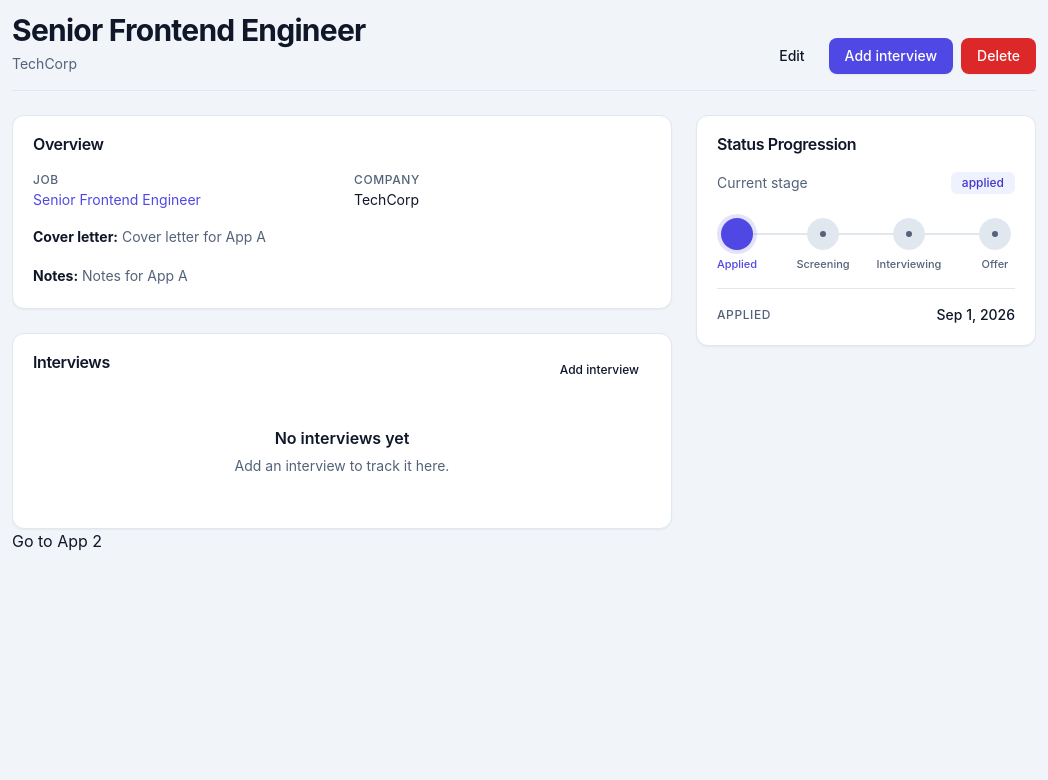
it: ApplicationDetailPage › regression: resets transient editing and modal state when route id changes
Expected: the heading "Senior Frontend Engineer" is shown, x1=12 y1=12 x2=366 y2=48
Note: Enter edit mode for app_1
Step 1. Click the button "Edit" → (792, 56), box x1=763 y1=38 x2=821 y2=74
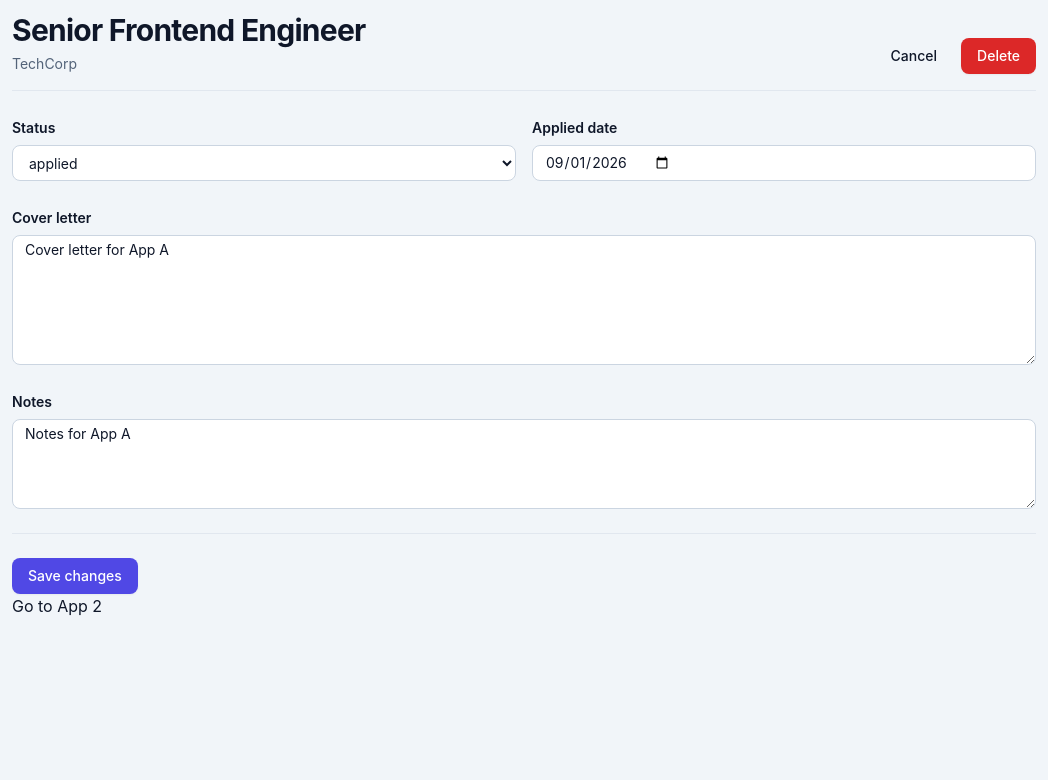
Result: the button "Save changes" is shown at x1=12 y1=558 x2=138 y2=594
Step 2. Click the link "Go to App 2" → (57, 606), box x1=12 y1=596 x2=102 y2=616
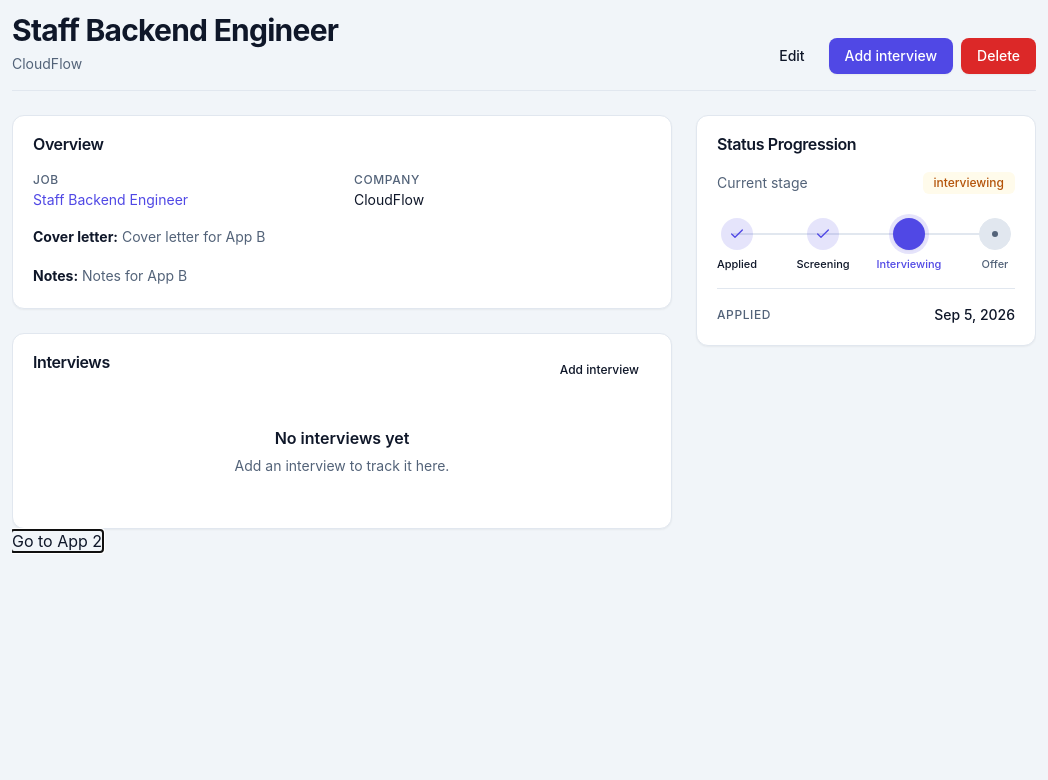
Result: the heading "Staff Backend Engineer" is shown at x1=12 y1=12 x2=338 y2=48
Result: the button "Save changes" is gone
Result: the button "Edit" is shown at x1=763 y1=38 x2=821 y2=74
